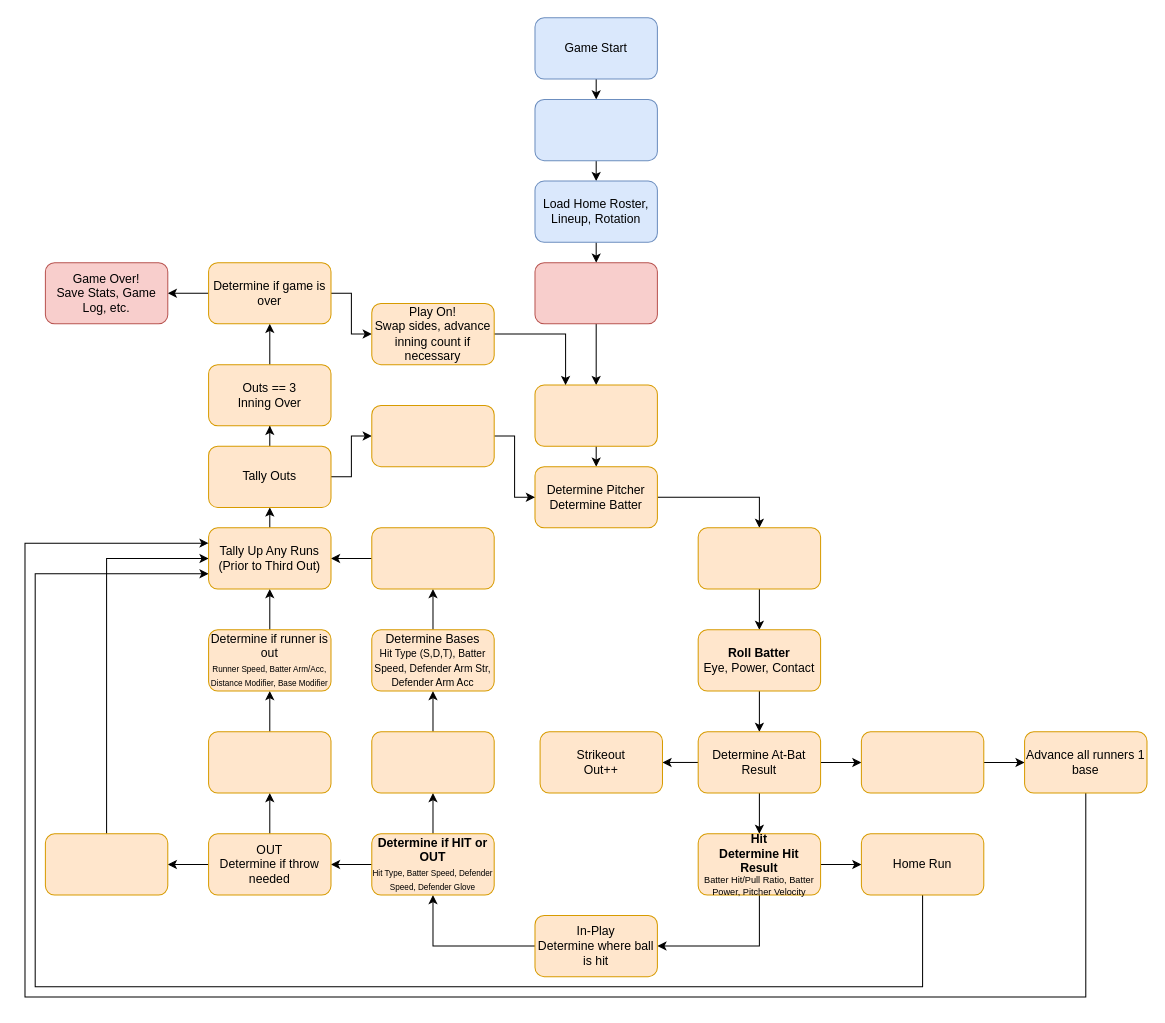
This 1165x1023 diagram has some shape labels left out. Each missing label, with the centre of its shape:
Begin half inning loop: (x=595, y=415)
Determine Bases for any Base Runners Same qualifications as prior: (x=432, y=558)
HIT: (x=432, y=762)
Load Away Roster, Lineup, Rotation: (x=595, y=129)
No: (x=106, y=864)
Outs <= 2: (x=432, y=435)
Roll Pitcher Control, Velocity, Stamina Remaining, Pitch Type or GB/FB ratio: (x=759, y=558)
Start at top of First Begin Game Loop: (x=595, y=293)
Walk: (x=922, y=762)
Yes: (x=269, y=762)
